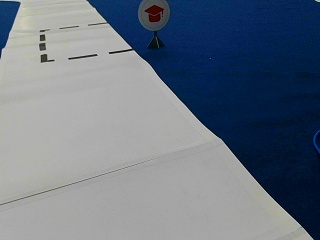school: (137, 1, 170, 30)
